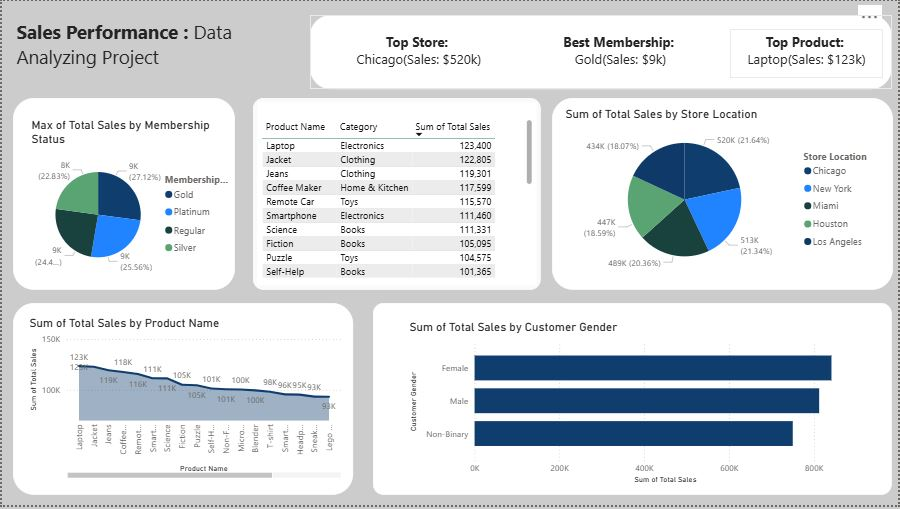

The page's visual inventory and layout, read from the dashboard file:
{"tool":"powerbi","page":{"name":"Page 1","canvas":[1280,720],"ordinal":0},"visuals":[{"type":"shape","box":[440,20,831.4,105.7],"z":0,"group":"g5"},{"type":"shape","box":[15.7,138.6,316.7,273.9],"z":0,"group":"g6"},{"type":"group","id":"g1","title":"Group 2","box":[785.7,138.6,487.1,273.8],"z":0},{"type":"textbox","box":[1040,40,218.7,70.1],"z":125,"group":"g5"},{"type":"textbox","box":[740,40.5,287.1,70.1],"z":250,"group":"g5"},{"type":"textbox","box":[446.7,40,296.7,70],"z":500,"group":"g5"},{"type":"pieChart","fields":{"Category":["Cleaned Data.Membership Status"],"Y":["Max(Cleaned Data.Total Sales)"]},"box":[37.1,167.1,295.3,238.2],"z":500,"group":"g6"},{"type":"shape","box":[358.6,138.6,411.4,274.3],"z":1000,"group":"g3"},{"type":"shape","box":[785.7,138.6,487.1,273.8],"z":1000,"group":"g1"},{"type":"group","id":"g2","title":"Group 3","box":[15.7,431.4,485.7,274.3],"z":1000},{"type":"shape","box":[15.7,431.4,485.7,274.1],"z":1000,"group":"g2"},{"type":"shape","box":[530,431.4,741.4,274.1],"z":1000,"group":"g4"},{"type":"group","id":"g3","title":"Group 4","box":[358.6,138.6,411.4,274.3],"z":2000},{"type":"pieChart","fields":{"Category":["Cleaned Data.Store Location"],"Y":["Sum(Cleaned Data.Total Sales)"]},"box":[800.4,152.1,457.1,245.7],"z":2000,"group":"g1"},{"type":"tableEx","fields":{"Values":["Cleaned Data.Product Name","Cleaned Data.Category","Sum(Cleaned Data.Total Sales)"]},"box":[365.6,164.9,396.5,235.7],"z":2000,"group":"g3"},{"type":"areaChart","fields":{"Category":["Cleaned Data.Product Name"],"Y":["Sum(Cleaned Data.Total Sales)"]},"box":[33.7,450.2,454.6,236.4],"z":2000,"group":"g2"},{"type":"clusteredBarChart","fields":{"Category":["Cleaned Data.Customer Gender"],"Y":["Sum(Cleaned Data.Total Sales)"]},"box":[577.3,455.6,662.4,238.7],"z":2000,"group":"g4"},{"type":"group","id":"g4","title":"Group 4","box":[530,431.4,741.4,274.3],"z":3000},{"type":"group","id":"g5","title":"Group 5","box":[440,20,831.4,105.7],"z":4000},{"type":"group","id":"g6","title":"Group 6","box":[15.7,138.6,317.1,274.3],"z":5000},{"type":"textbox","box":[15.7,20,424.3,90],"z":6000}]}

Visuals, with their boxes in screenshot pixels (x1, y1, x2, y2), scaled from the page's 1280x720 canvas onto the 900x509 screenshot:
shape: (left=309, top=14, right=894, bottom=89)
shape: (left=11, top=98, right=234, bottom=292)
"Group 2" group: (left=552, top=98, right=895, bottom=292)
textbox: (left=731, top=28, right=885, bottom=78)
textbox: (left=520, top=29, right=722, bottom=78)
textbox: (left=314, top=28, right=523, bottom=78)
pieChart - Cleaned Data.Membership Status x Max(Cleaned Data.Total Sales): (left=26, top=118, right=234, bottom=287)
shape: (left=252, top=98, right=541, bottom=292)
shape: (left=552, top=98, right=895, bottom=292)
"Group 3" group: (left=11, top=305, right=353, bottom=499)
shape: (left=11, top=305, right=353, bottom=499)
shape: (left=373, top=305, right=894, bottom=499)
"Group 4" group: (left=252, top=98, right=541, bottom=292)
pieChart - Cleaned Data.Store Location x Sum(Cleaned Data.Total Sales): (left=563, top=108, right=884, bottom=281)
tableEx - Cleaned Data.Product Name x Cleaned Data.Category: (left=257, top=117, right=536, bottom=283)
areaChart - Cleaned Data.Product Name x Sum(Cleaned Data.Total Sales): (left=24, top=318, right=343, bottom=485)
clusteredBarChart - Cleaned Data.Customer Gender x Sum(Cleaned Data.Total Sales): (left=406, top=322, right=872, bottom=491)
"Group 4" group: (left=373, top=305, right=894, bottom=499)
"Group 5" group: (left=309, top=14, right=894, bottom=89)
"Group 6" group: (left=11, top=98, right=234, bottom=292)
textbox: (left=11, top=14, right=309, bottom=78)
